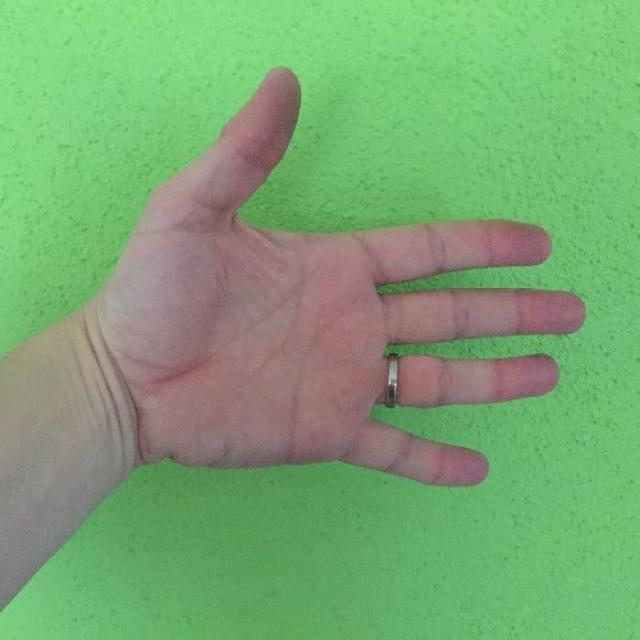paper: (119, 66, 584, 488)
